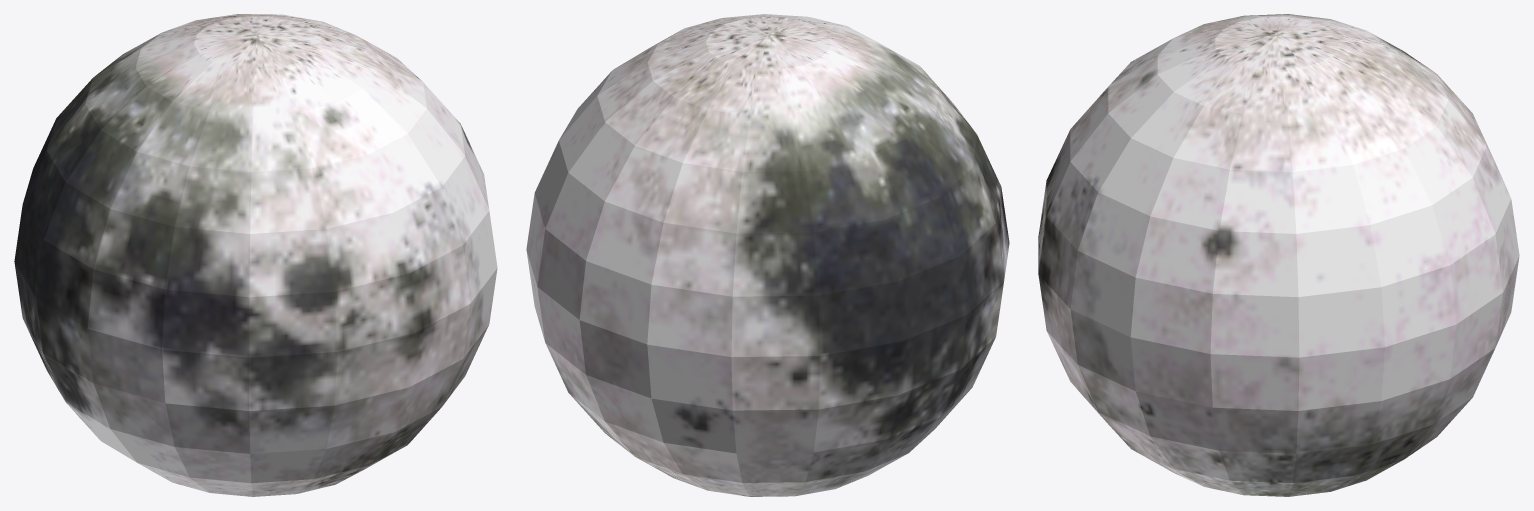
File: moon.fbx
3 views of the same model, side by side, from view 1: azimuth 30°, elevation 25°; view 2: azimuth 150°, elevation 25°; view 3: azimuth 270°, elevation 25° (orthographic).
Visible parts, largest first — view 1: moon; view 2: moon; view 3: moon.
Boxes of the visible parts, x1,y1,x2,y2 form: moon: (14, 14, 497, 496); moon: (526, 14, 1009, 496); moon: (1038, 14, 1519, 496).
Bounding box in the file's own units: 520 × 522 × 518.
